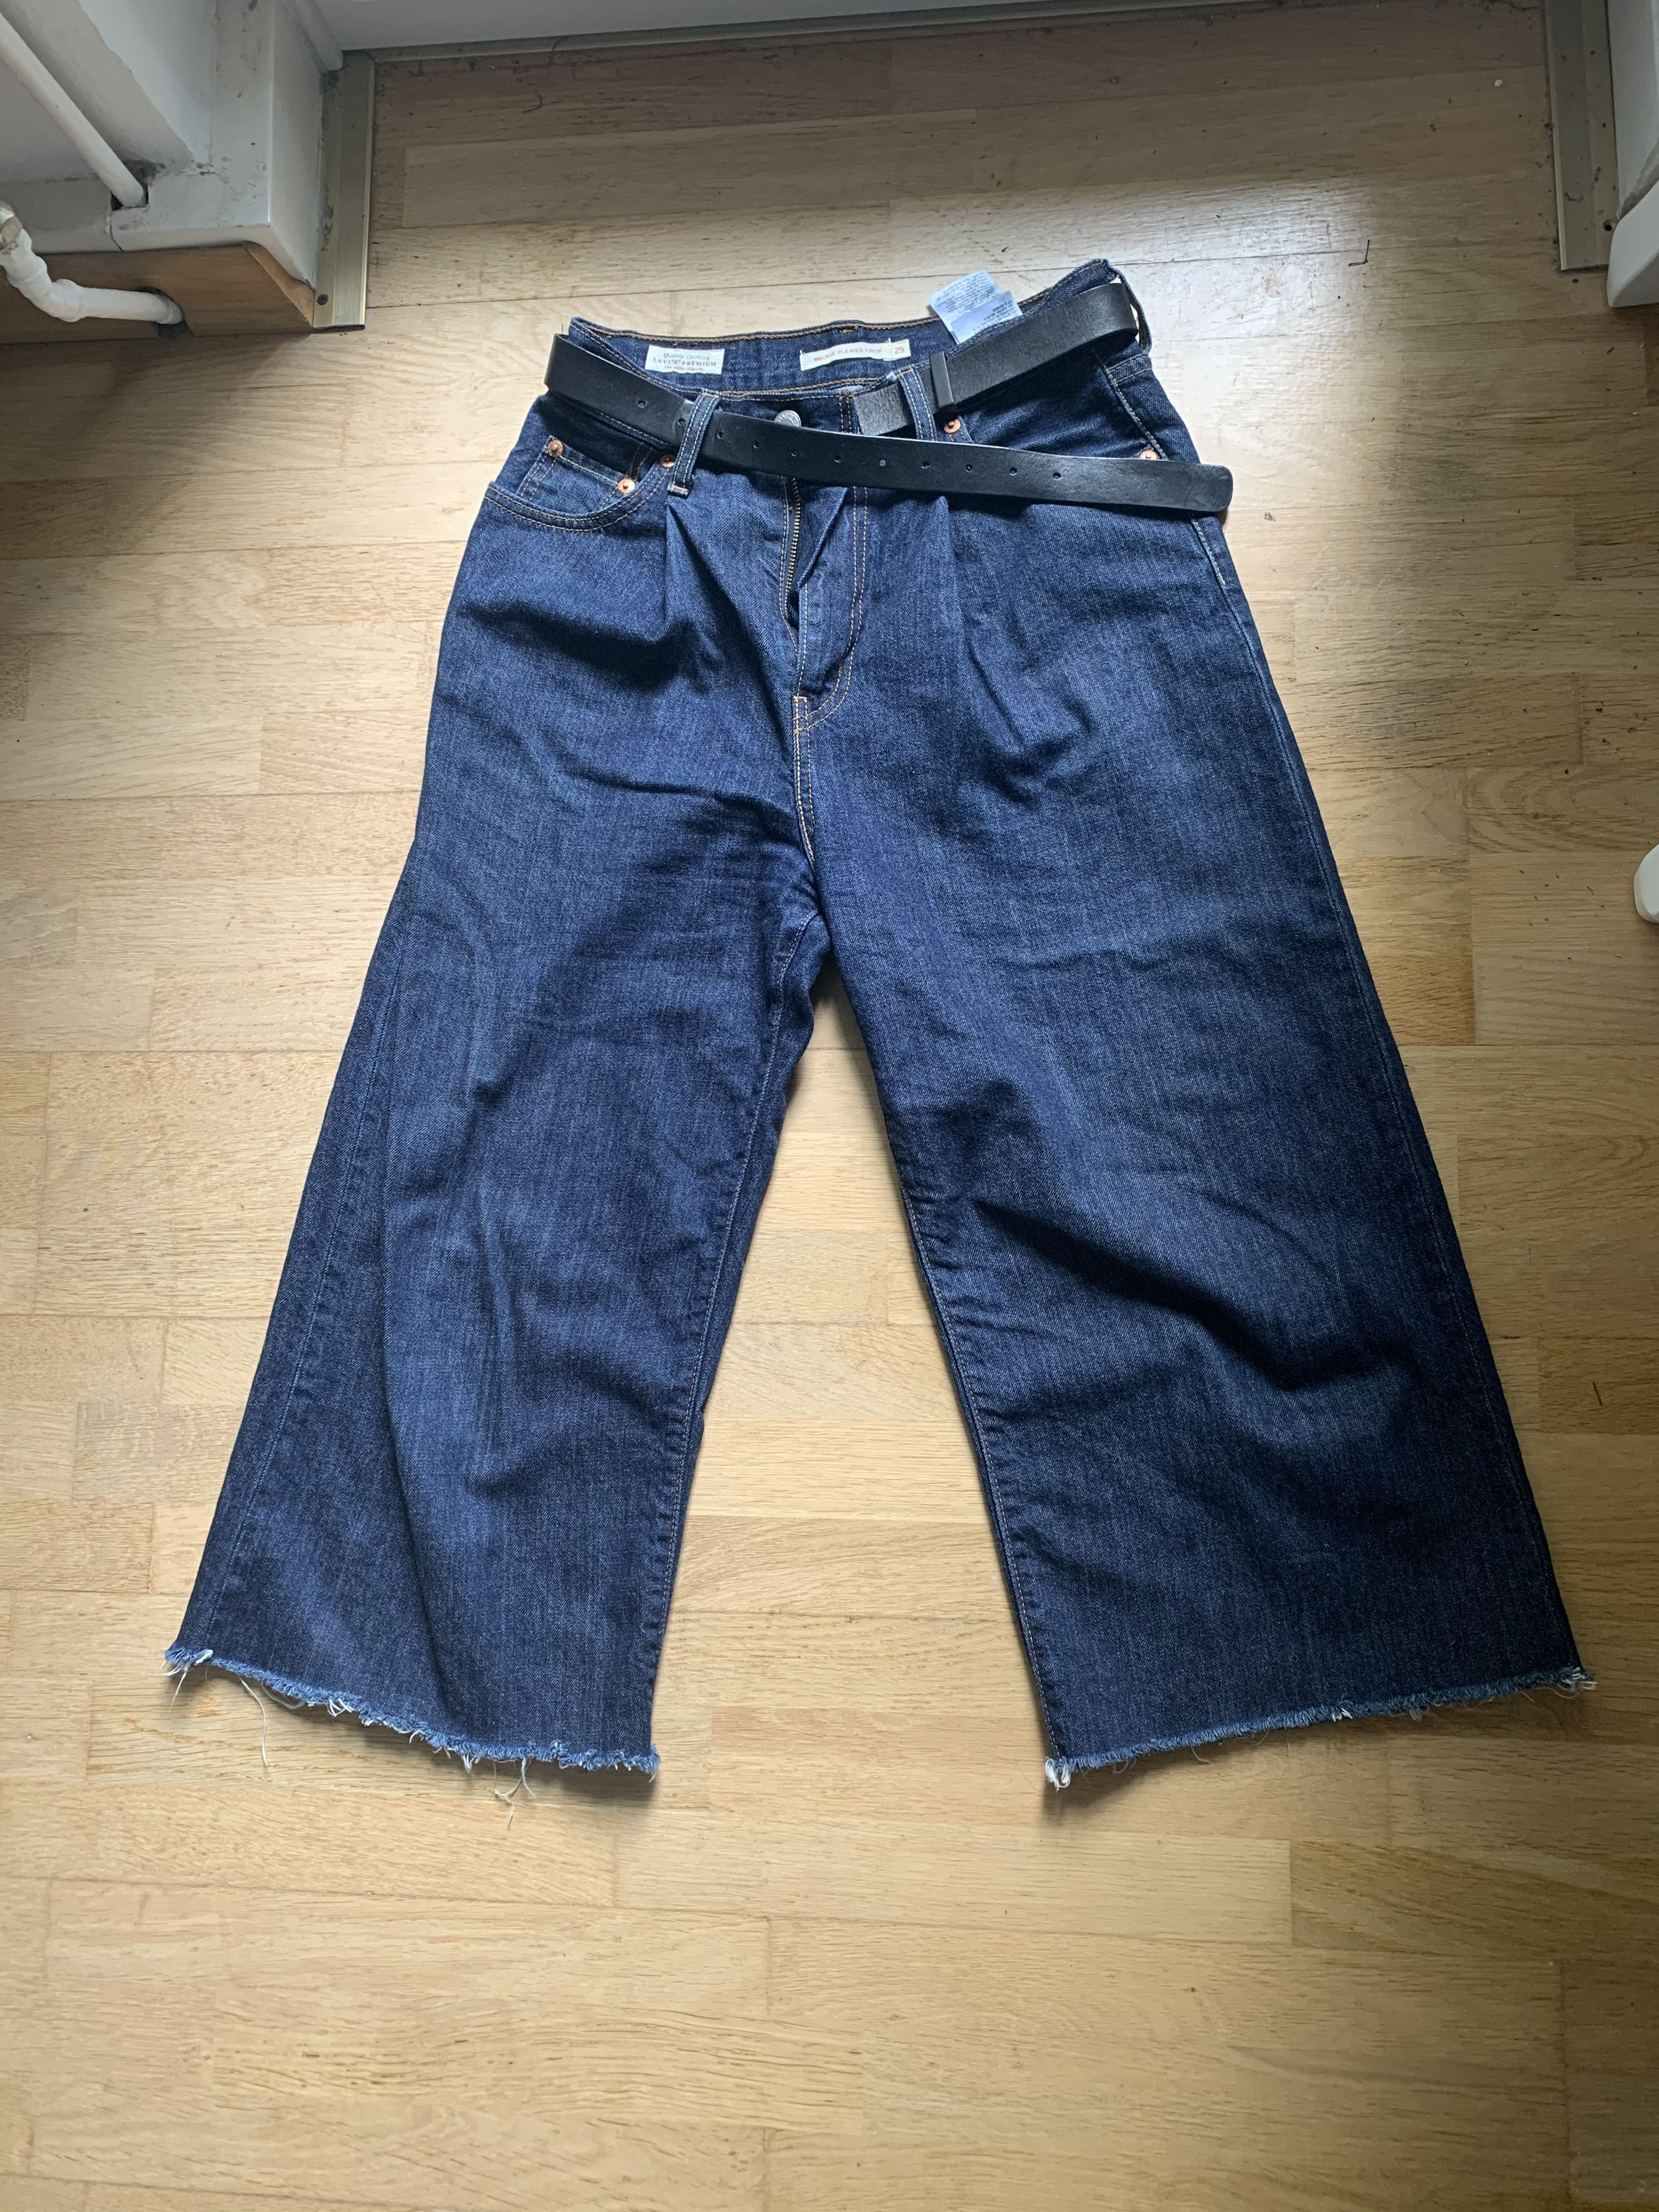clothes: (146, 268, 1595, 1791)
